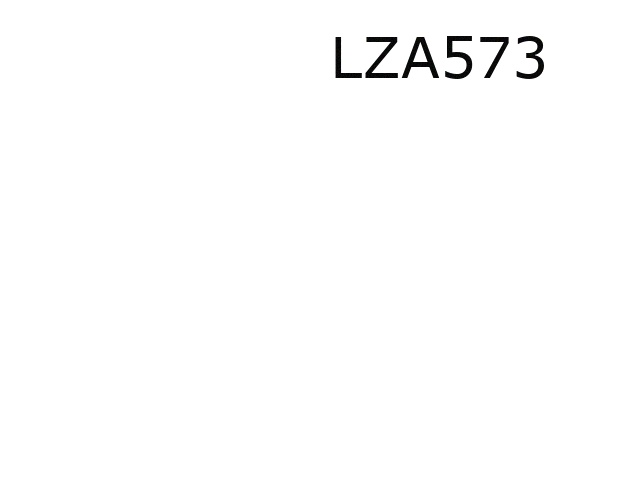OCR_AREA: (326, 32, 552, 83)
